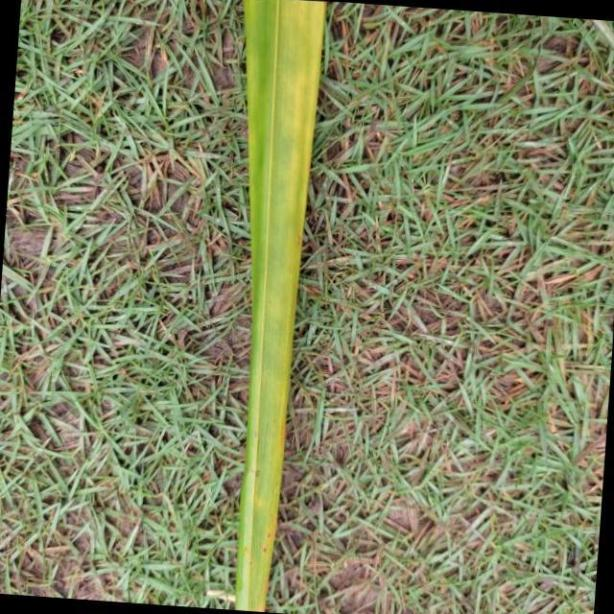nitrogen: (241, 0, 324, 614)
